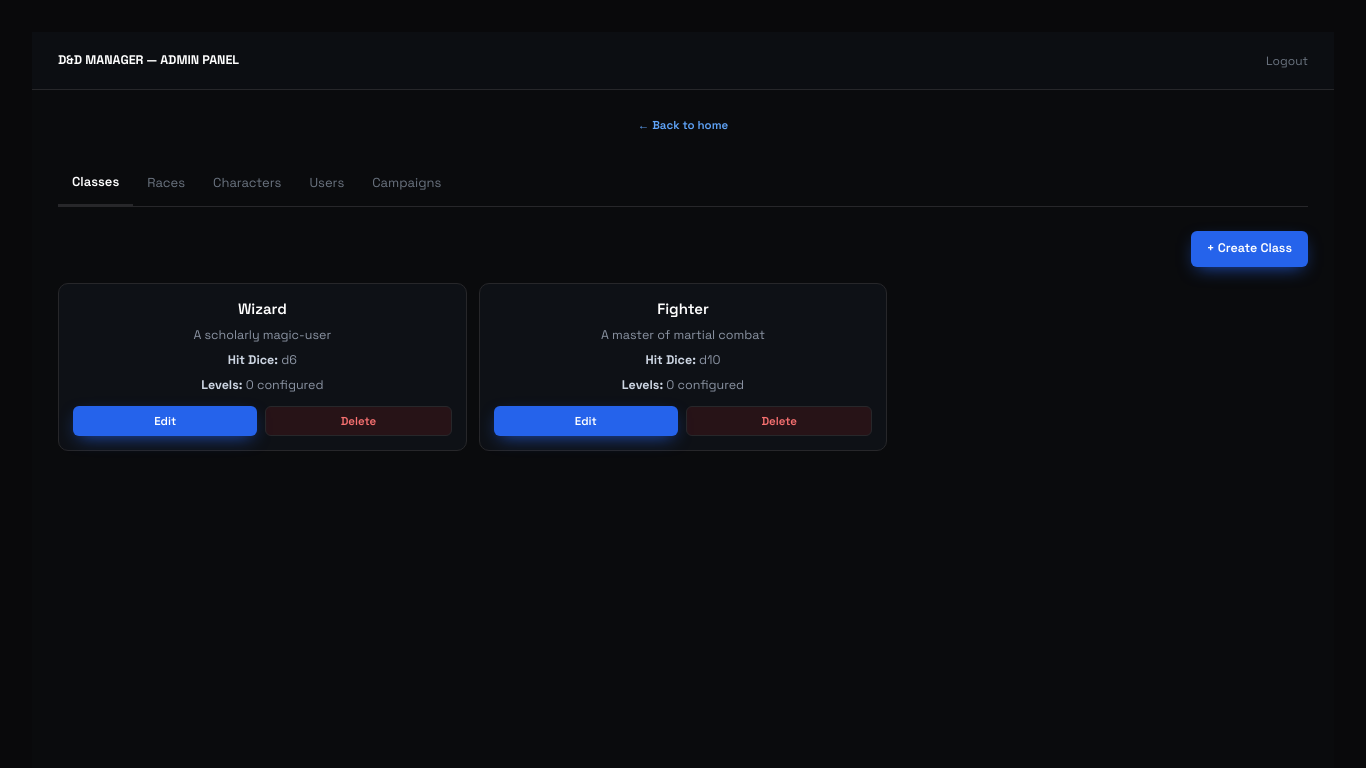
Scenario: AdminPanel — Campaigns CRUD › opens edit modal with prefilled campaign data
Click the tab "Campaigns" at {"x": 407, "y": 183}, box 358,161 -> 455,204
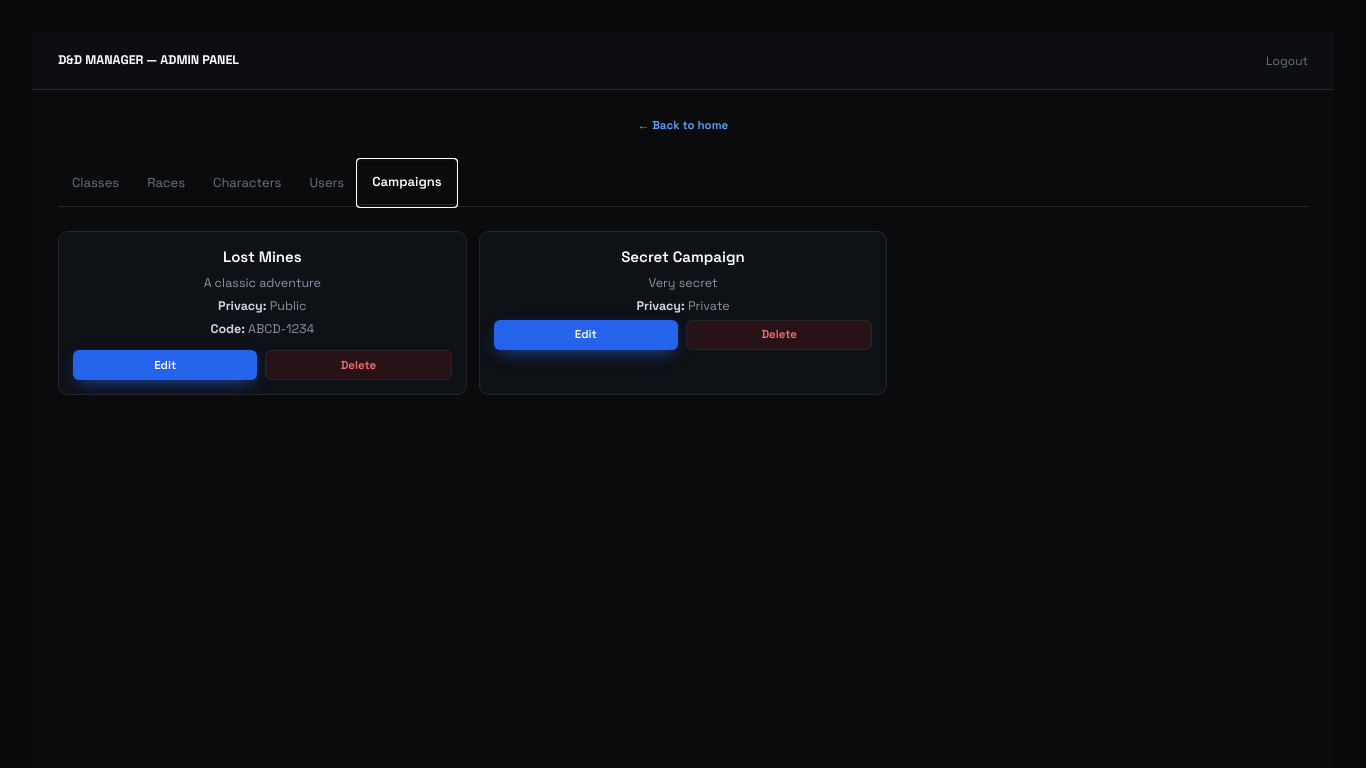
Click the button "Edit" below "Code:" at {"x": 165, "y": 365}, box 73,350 -> 257,380
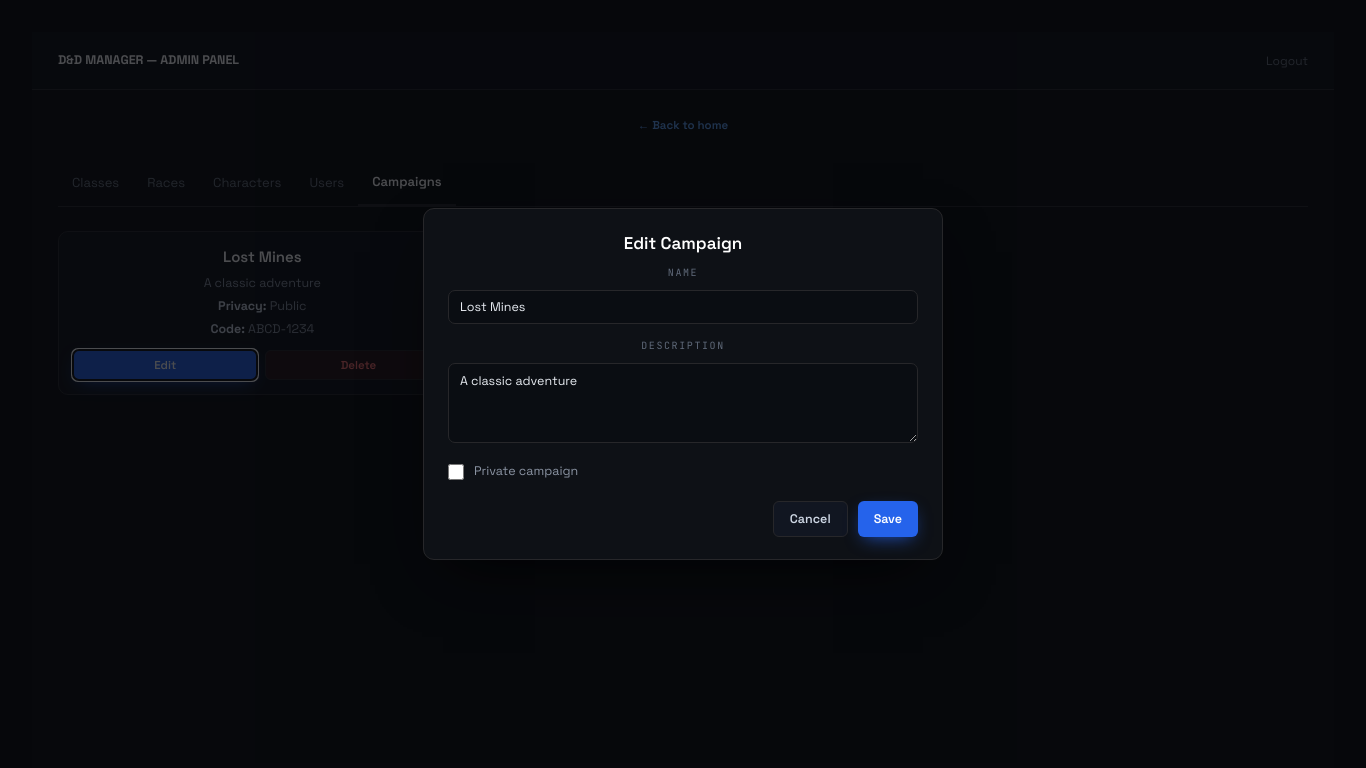
Result: the field showing "Lost Mines" is shown at 448,290 -> 918,324
Result: the text box showing "A classic adventure" is shown at 448,362 -> 918,442
